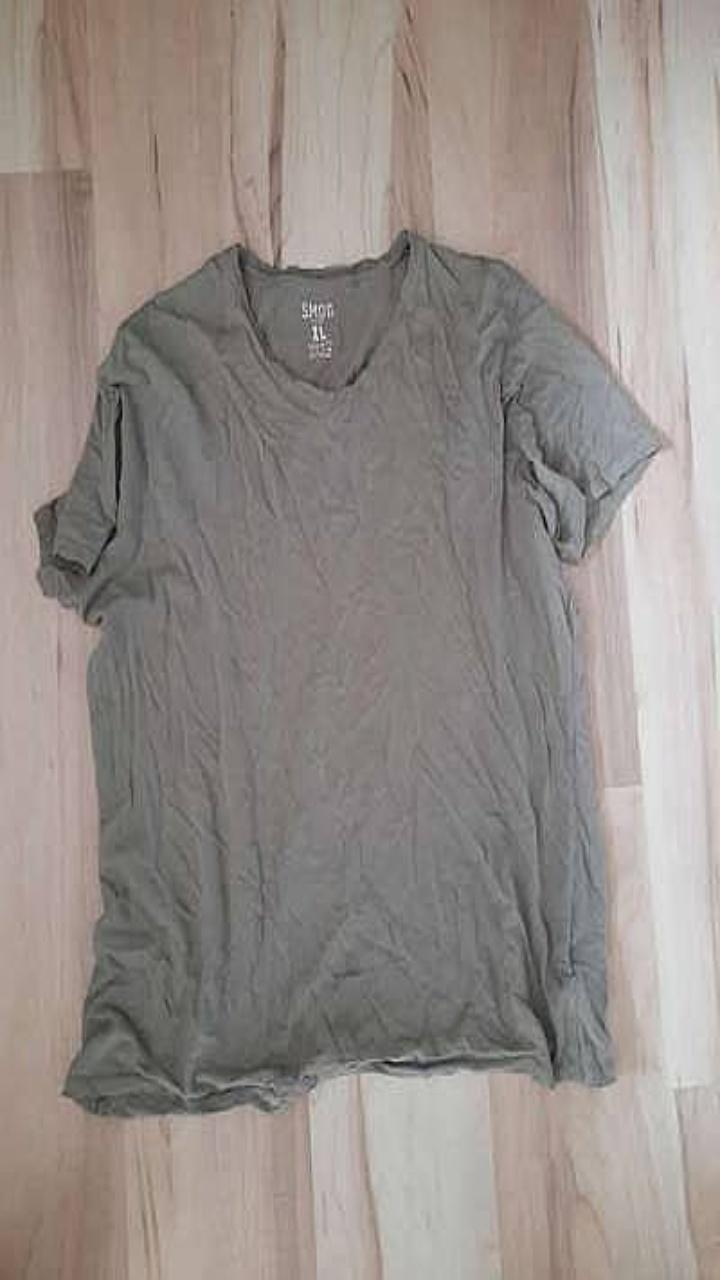T-Shirt: (34, 228, 666, 1115)
